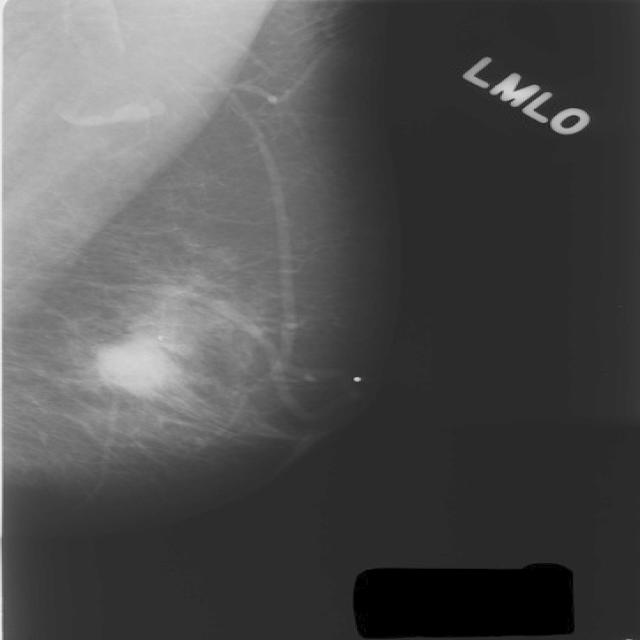tumour: (90, 328, 179, 398)
